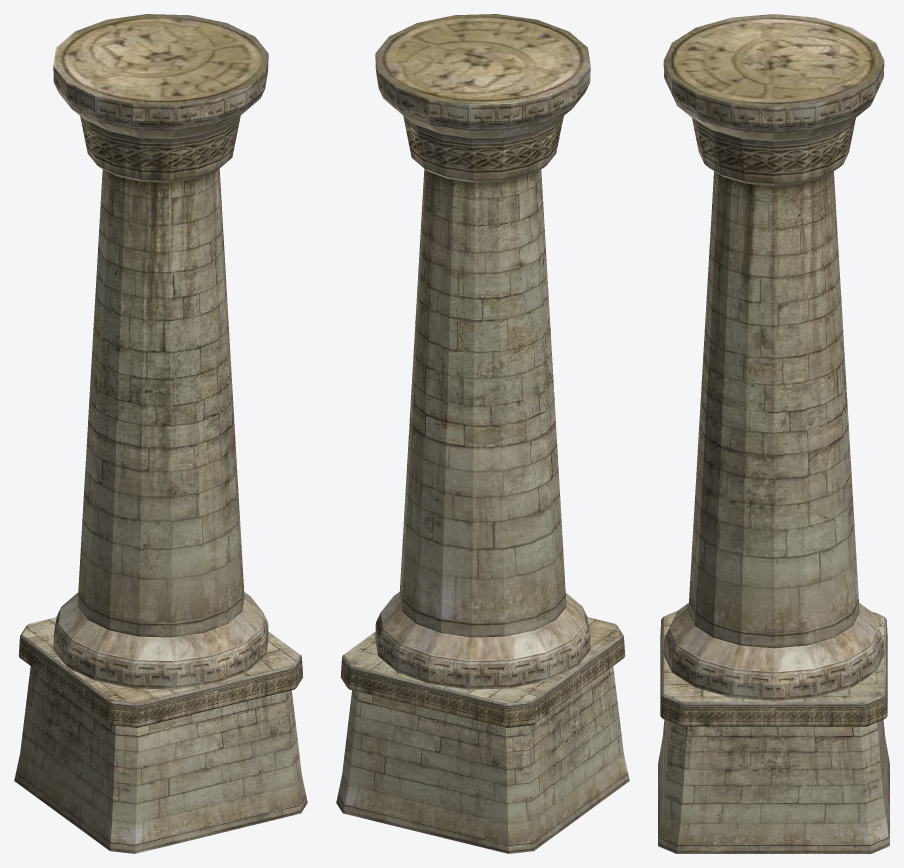
Rendered from TW2_5_TEMPLE_01_1-transformed.glb.
3 views of the same model, side by side, from view 1: azimuth 30°, elevation 25°; view 2: azimuth 150°, elevation 25°; view 3: azimuth 270°, elevation 25° (orthographic).
Parts seen in each view (by area): view 1: default; view 2: default; view 3: default.
Boxes of the visible parts, left/top/right/bottom form: default: left=14, top=14, right=307, bottom=853; default: left=336, top=14, right=629, bottom=853; default: left=658, top=14, right=889, bottom=853.
Bounding box in the file's own units: 3.62 × 12.8 × 3.62.
Materials: 2 (2 with a texture image).
